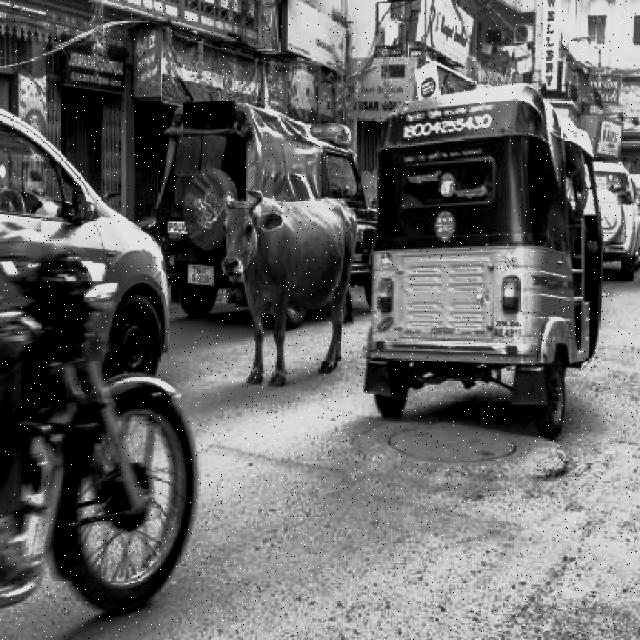Auto-Rickshaw: (360, 74, 602, 434)
